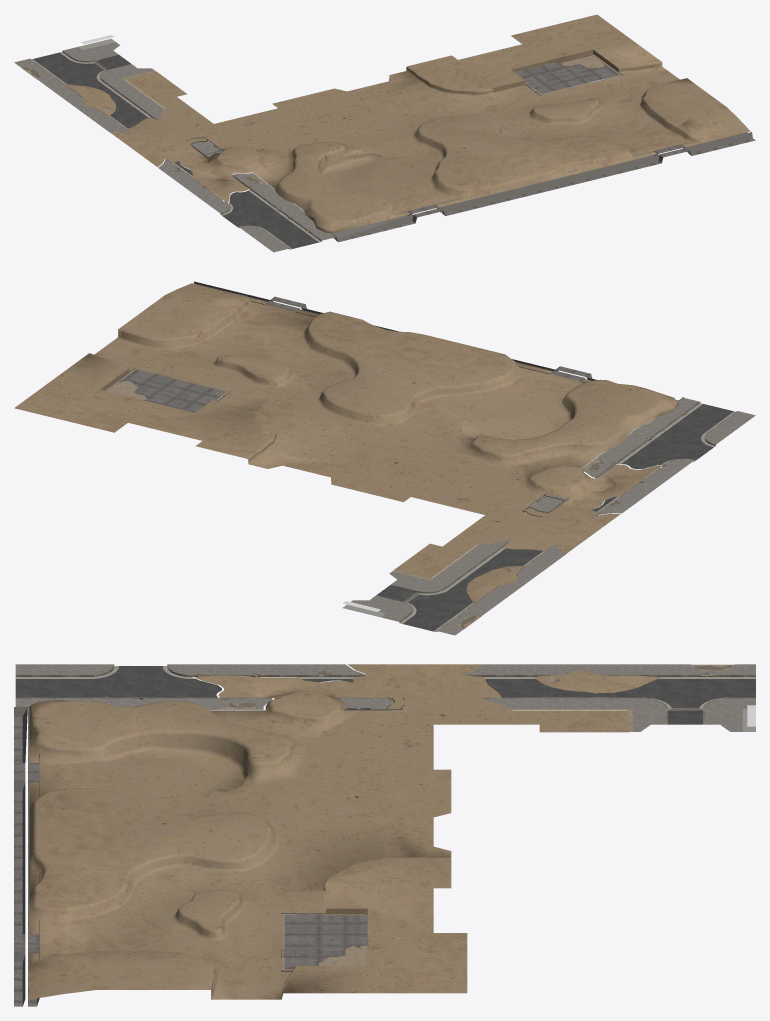
The model's file is Forest_Base.fbx.
3 views of the same model, one above another, from view 1: azimuth 30°, elevation 25°; view 2: azimuth 150°, elevation 25°; view 3: azimuth 270°, elevation 25° (orthographic). The views are drawn at different scales.
Parts seen in each view (by area): view 1: Bg_Forest_STR_Base_Terrain_0; view 2: Bg_Forest_STR_Base_Terrain_0; view 3: Bg_Forest_STR_Base_Terrain_0.
Boxes of the visible parts, x1,y1,x2,y2 form: Bg_Forest_STR_Base_Terrain_0: (14, 14, 755, 252); Bg_Forest_STR_Base_Terrain_0: (14, 281, 755, 635); Bg_Forest_STR_Base_Terrain_0: (14, 664, 755, 1006).
Bounding box in the file's own units: 9004 × 256 × 8420.
Materials: 10 (8 with a texture image).
